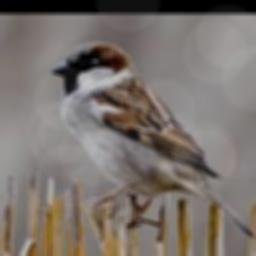Sparrow: (50, 40, 255, 237)
